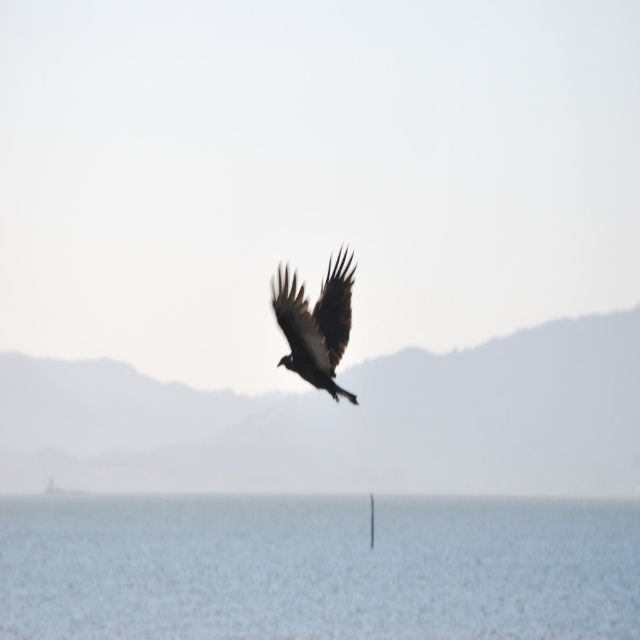Eagle: (272, 235, 360, 408)
